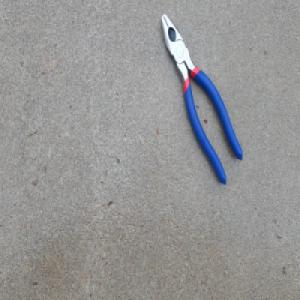Pliers: (158, 13, 244, 188)
